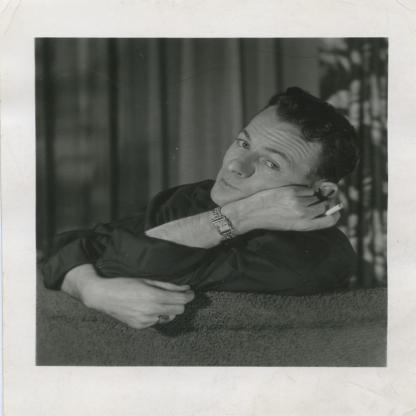smoking: (322, 203, 345, 217)
